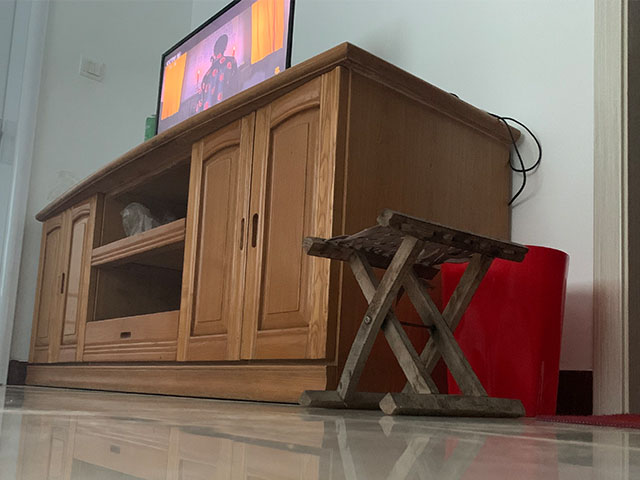cabinet: (23, 39, 523, 406)
carpet: (536, 412, 640, 431)
stool: (297, 208, 530, 419)
trashcan: (440, 244, 571, 417)
